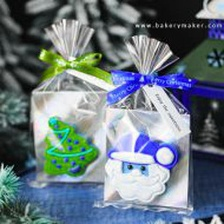snack: (83, 29, 200, 220), (25, 13, 123, 187)
